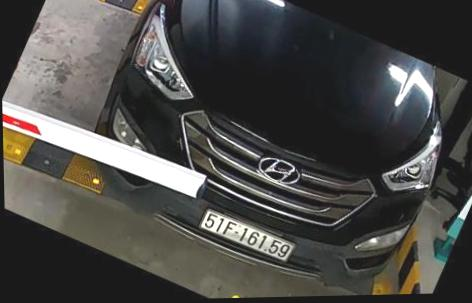License_Plate: (199, 207, 304, 270)
